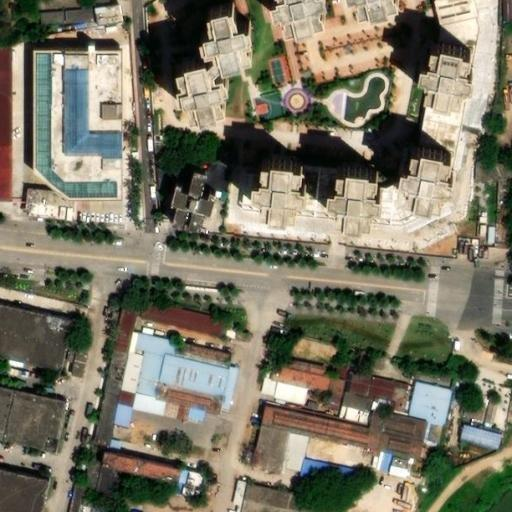building: (38, 56, 135, 211), (175, 0, 261, 115), (262, 404, 380, 449), (10, 393, 78, 460), (406, 154, 459, 228), (124, 299, 228, 336), (159, 356, 239, 404), (426, 47, 484, 113), (262, 165, 314, 231), (238, 480, 345, 512), (337, 176, 389, 241), (102, 454, 194, 489), (275, 358, 343, 399), (418, 101, 465, 160), (185, 181, 225, 248), (405, 382, 457, 429), (0, 474, 58, 512), (301, 460, 369, 491), (89, 396, 124, 455), (253, 427, 293, 478), (156, 388, 224, 417), (277, 0, 335, 33), (378, 415, 433, 446), (134, 351, 166, 403), (382, 196, 428, 231), (103, 351, 133, 401), (458, 423, 506, 454), (306, 186, 344, 222), (383, 438, 429, 462), (144, 337, 187, 360), (242, 176, 269, 212), (115, 314, 138, 356), (347, 371, 376, 398), (372, 376, 401, 402), (289, 436, 309, 472), (340, 392, 372, 414), (97, 8, 128, 28), (65, 478, 83, 512), (387, 458, 415, 479), (56, 25, 96, 39), (97, 469, 118, 495), (64, 9, 95, 26), (129, 334, 147, 363), (189, 347, 222, 362), (231, 478, 246, 508), (69, 360, 89, 382), (39, 10, 64, 27), (190, 473, 208, 492), (374, 436, 386, 459), (396, 389, 409, 409), (187, 489, 200, 505), (371, 398, 393, 407), (111, 442, 123, 457), (370, 412, 379, 426), (370, 403, 380, 413), (399, 383, 411, 391), (366, 447, 375, 457), (94, 0, 109, 4)
